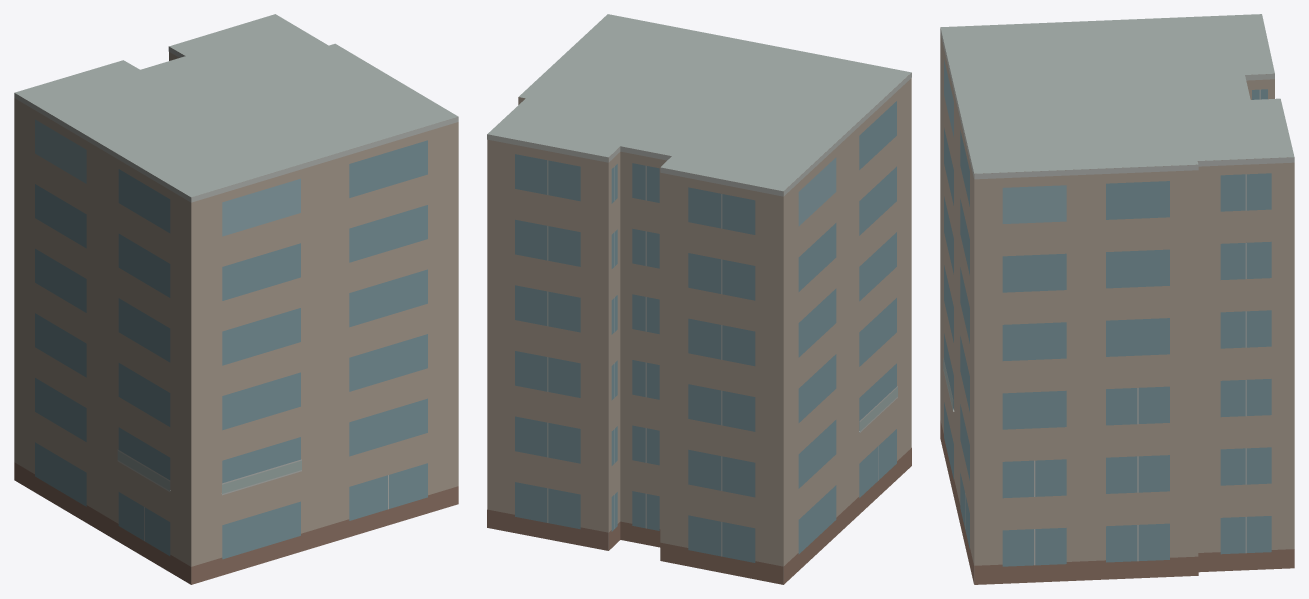
Rendered from survey-upis-32663263.glb.
3 renders of one model, left to right at view 1: azimuth 30°, elevation 25°; view 2: azimuth 150°, elevation 25°; view 3: azimuth 270°, elevation 25°, orthographic. The views are drawn at different scales.
Parts seen in each view (by area): view 1: survey-upis-32663263.tmp; view 2: survey-upis-32663263.tmp; view 3: survey-upis-32663263.tmp.
Boxes of the visible parts, bbox=[...] form: survey-upis-32663263.tmp: bbox=[14, 14, 458, 584]; survey-upis-32663263.tmp: bbox=[487, 14, 911, 584]; survey-upis-32663263.tmp: bbox=[940, 14, 1294, 584].
Bounding box in the file's own units: 15.06 × 18.05 × 14.1.
